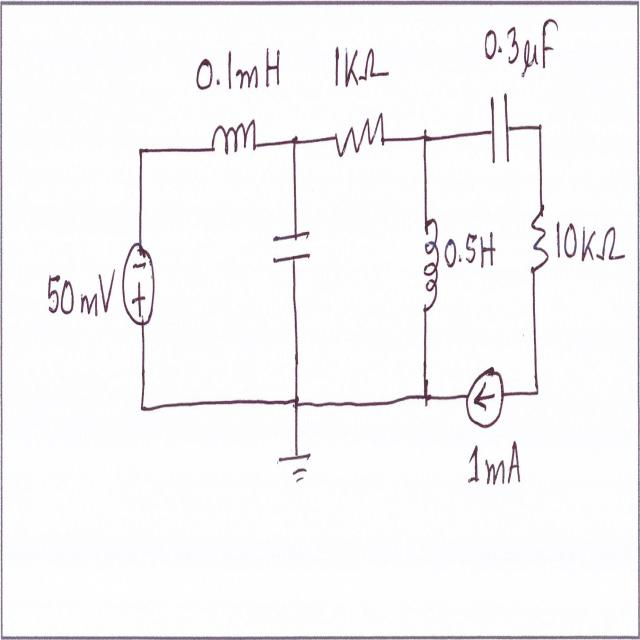capacitor: (484, 78, 515, 179), (268, 220, 314, 274)
current_source: (460, 355, 508, 434)
ground: (276, 442, 315, 496)
inductor: (205, 111, 268, 165), (418, 195, 441, 323)
resistor: (330, 103, 385, 166), (527, 197, 553, 290)
voltage_source: (120, 233, 160, 338)
